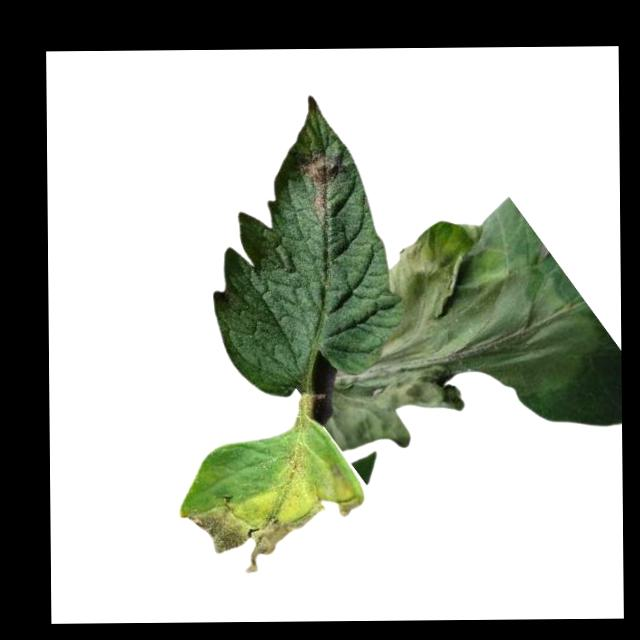Late_blight: (332, 228, 604, 444), (186, 445, 355, 574), (302, 147, 342, 219)
